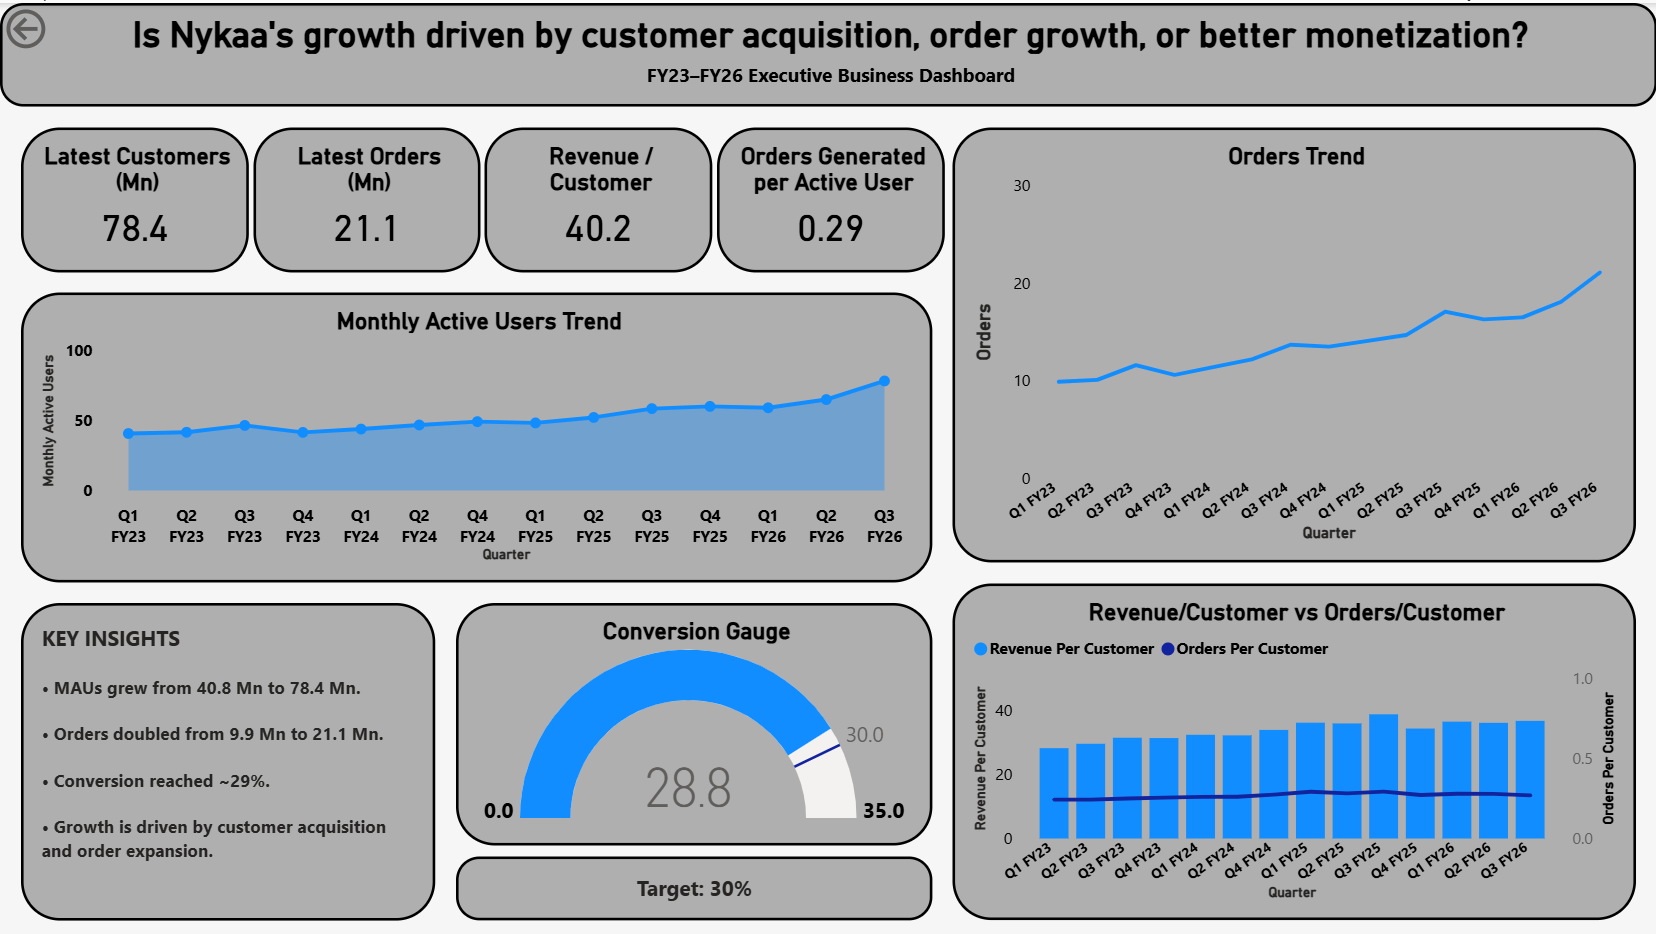

This screenshot's page, from the dashboard's own definition file:
{"tool":"powerbi","page":{"name":"Customer_Growth","canvas":[1280,720],"ordinal":1},"visuals":[{"type":"textbox","title":"Is Nykaa''s growth driven by customer acquisition, order growth, or better monetization?","box":[0,0,1280,80],"z":0},{"type":"card","title":"Latest Customers (Mn)","fields":{"Values":["nykaa_master.Latest MAU"]},"box":[16,96,176,112],"z":1000},{"type":"card","title":"Latest Orders (Mn)","fields":{"Values":["nykaa_master.Latest Orders"]},"box":[195.3,96,175,112],"z":2000},{"type":"card","title":"Revenue / Customer","fields":{"Values":["nykaa_master.Revenue Per Customer"]},"box":[374.7,96,176,112],"z":3000},{"type":"card","title":"Orders Generated per Active User","fields":{"Values":["nykaa_master.Orders Per Customer"]},"box":[554,96,176,112],"z":4000},{"type":"areaChart","title":"Monthly Active Users Trend","fields":{"Category":["nykaa_master.quarter"],"Y":["Sum(nykaa_master.total_mauv)"]},"box":[16,224,704,224],"z":5000},{"type":"lineChart","title":"Orders Trend","fields":{"Category":["nykaa_master.quarter"],"Y":["nykaa_master.Total Orders"]},"box":[736,96,528,336],"z":6000},{"type":"gauge","title":"Conversion Gauge","fields":{"Y":["nykaa_master.Conversion Rate %"]},"box":[352,464,368,187],"z":7000},{"type":"lineClusteredColumnComboChart","title":"Revenue/Customer vs Orders/Customer","fields":{"Category":["nykaa_master.quarter"],"Y2":["nykaa_master.Orders Per Customer"],"Y":["nykaa_master.Revenue Per Customer"]},"box":[736,448,528,260],"z":8000},{"type":"textbox","box":[16,464,320,245],"z":9000},{"type":"actionButton","box":[0,0,100,40],"z":10000},{"type":"textbox","box":[352,659,368,49],"z":11000}]}

Visuals, with their boxes in screenshot pixels (x1, y1, x2, y2), scaled from the page's 1280x720 canvas onto the 1656x934 screenshot:
"Is Nykaa''s growth driven by customer acquisition, order growth, or better monetization?" textbox: pyautogui.locateOnScreen(0, 0, 1655, 104)
"Latest Customers (Mn)" card: pyautogui.locateOnScreen(21, 125, 248, 270)
"Latest Orders (Mn)" card: pyautogui.locateOnScreen(253, 125, 479, 270)
"Revenue / Customer" card: pyautogui.locateOnScreen(485, 125, 712, 270)
"Orders Generated per Active User" card: pyautogui.locateOnScreen(717, 125, 944, 270)
"Monthly Active Users Trend" areaChart: pyautogui.locateOnScreen(21, 291, 932, 581)
"Orders Trend" lineChart: pyautogui.locateOnScreen(952, 125, 1635, 560)
"Conversion Gauge" gauge: pyautogui.locateOnScreen(455, 602, 932, 844)
"Revenue/Customer vs Orders/Customer" lineClusteredColumnComboChart: pyautogui.locateOnScreen(952, 581, 1635, 918)
textbox: pyautogui.locateOnScreen(21, 602, 435, 920)
actionButton: pyautogui.locateOnScreen(0, 0, 129, 52)
textbox: pyautogui.locateOnScreen(455, 855, 932, 918)
